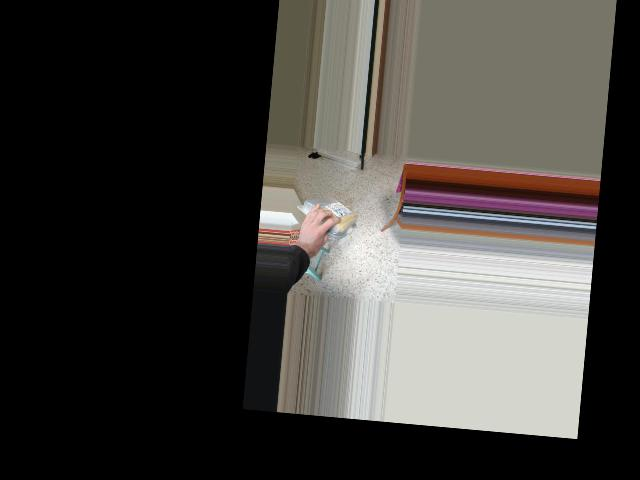cheese: (299, 198, 364, 231)
